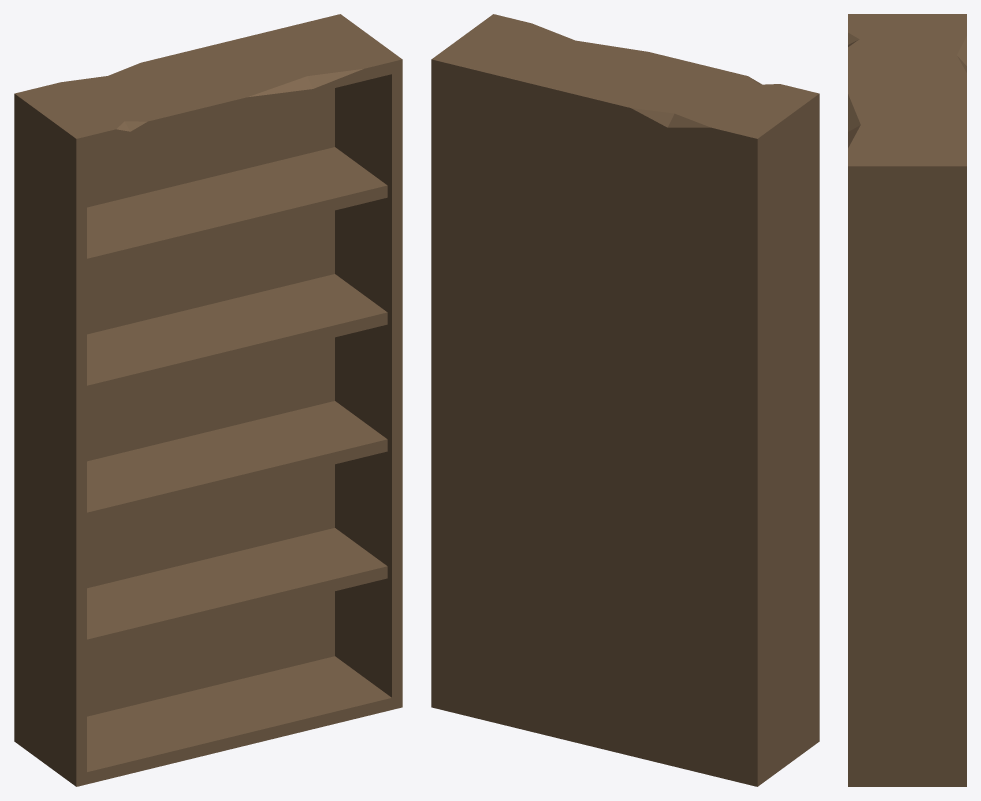
Rendered from SM_Prop_Bookshelf_01.obj.
3 views of the same model, side by side, from view 1: azimuth 30°, elevation 25°; view 2: azimuth 150°, elevation 25°; view 3: azimuth 270°, elevation 25° (orthographic). The views are drawn at different scales.
Visible parts, largest first — view 1: SM_Prop_Bookshelf_01_0; view 2: SM_Prop_Bookshelf_01_0; view 3: SM_Prop_Bookshelf_01_0.
Boxes of the visible parts, bbox=[...] form: SM_Prop_Bookshelf_01_0: bbox=[14, 14, 402, 786]; SM_Prop_Bookshelf_01_0: bbox=[431, 14, 819, 786]; SM_Prop_Bookshelf_01_0: bbox=[848, 14, 966, 786].
Bounding box in the file's own units: 1.15 × 2.19 × 0.3792.
1 material, 1 textured.
